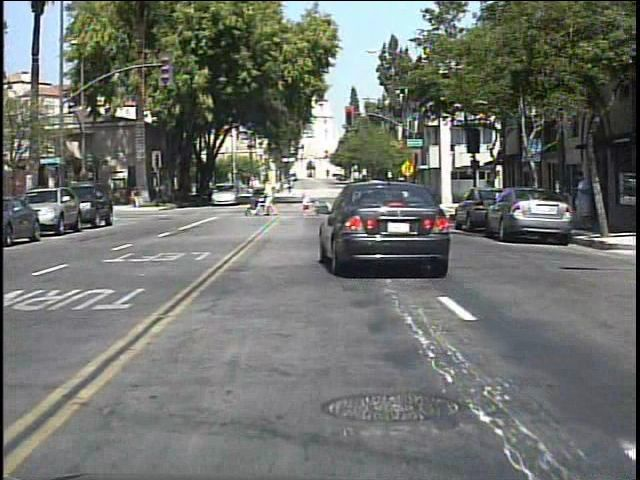person: (568, 170, 591, 236), (263, 177, 281, 219), (129, 186, 141, 211), (153, 182, 164, 209)
